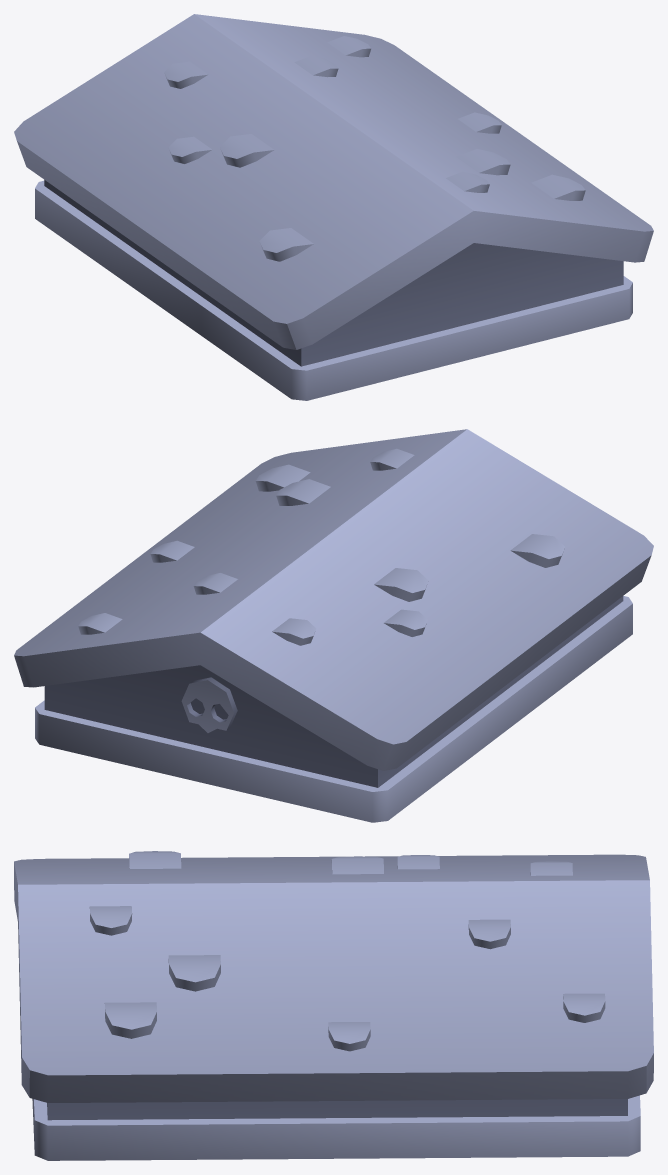
The model's file is crypt-large-roof.004_lev2.glb.
3 views of the same model, one above another, from view 1: azimuth 30°, elevation 25°; view 2: azimuth 150°, elevation 25°; view 3: azimuth 270°, elevation 25° (orthographic). The views are drawn at different scales.
Parts seen in each view (by area): view 1: crypt-large-roof.004_lev2; view 2: crypt-large-roof.004_lev2; view 3: crypt-large-roof.004_lev2.
Boxes of the visible parts, bbox=[...] form: crypt-large-roof.004_lev2: bbox=[14, 14, 653, 400]; crypt-large-roof.004_lev2: bbox=[14, 429, 653, 822]; crypt-large-roof.004_lev2: bbox=[14, 851, 653, 1160].
Size of the model in its own units: 32.24 by 12.15 by 39.5.
1 material, 1 textured.
